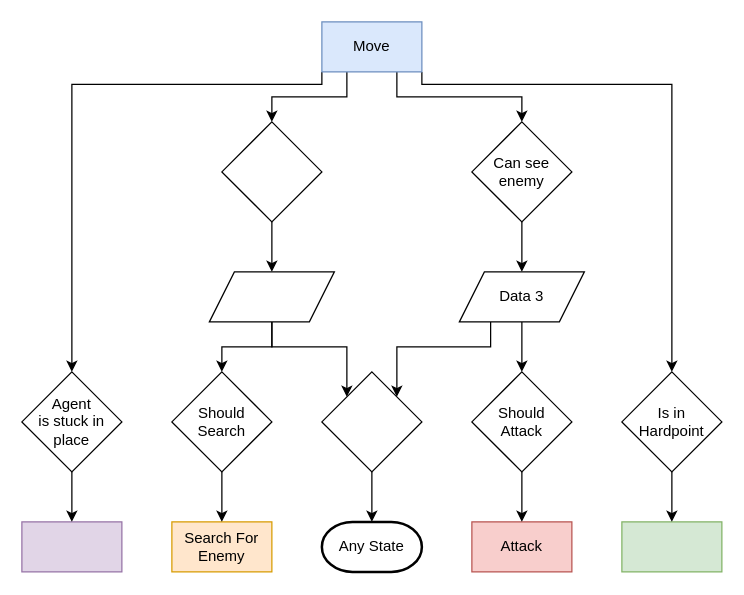
This 744x595 diagram has some shape labels left out. Here are the shapes that lost their labels. From the top down, the centre of each, then its label:
At [271,171]: "Is being attacked".
At [271,296]: "Data 2".
At [371,421]: "Should Flee".
At [71,546]: "Search For Hardpoint".
At [671,546]: "Patrol".
